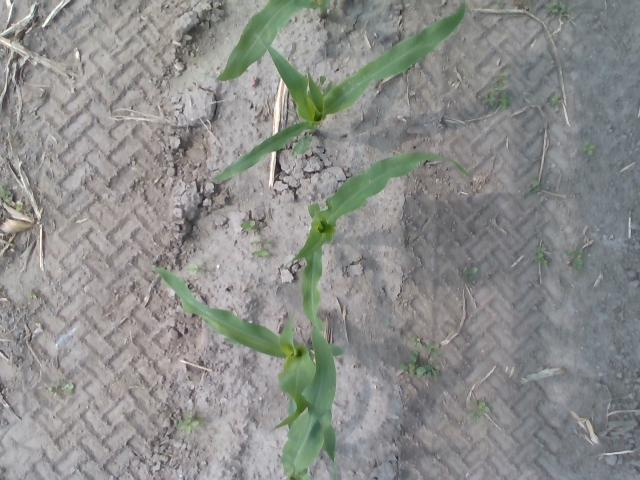Maize: (210, 0, 470, 181), (151, 264, 343, 478), (286, 152, 468, 330), (205, 0, 329, 83), (280, 323, 336, 480)
Weeds: (397, 350, 441, 378), (482, 72, 512, 110), (175, 411, 205, 434), (43, 380, 75, 399), (466, 400, 492, 420), (545, 0, 571, 18), (532, 244, 552, 266), (565, 249, 585, 270), (187, 259, 206, 276), (524, 177, 540, 195), (462, 266, 478, 284), (548, 93, 562, 112), (580, 139, 596, 155), (425, 343, 441, 358), (240, 219, 258, 232), (0, 185, 12, 203), (409, 336, 422, 346), (252, 249, 268, 257), (317, 74, 326, 88), (15, 200, 25, 212), (26, 290, 37, 300), (262, 238, 272, 248), (496, 0, 504, 8)
